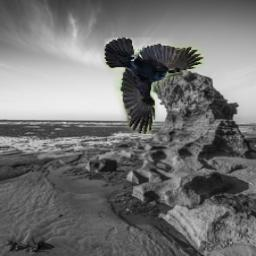Crow: (105, 39, 205, 135)
